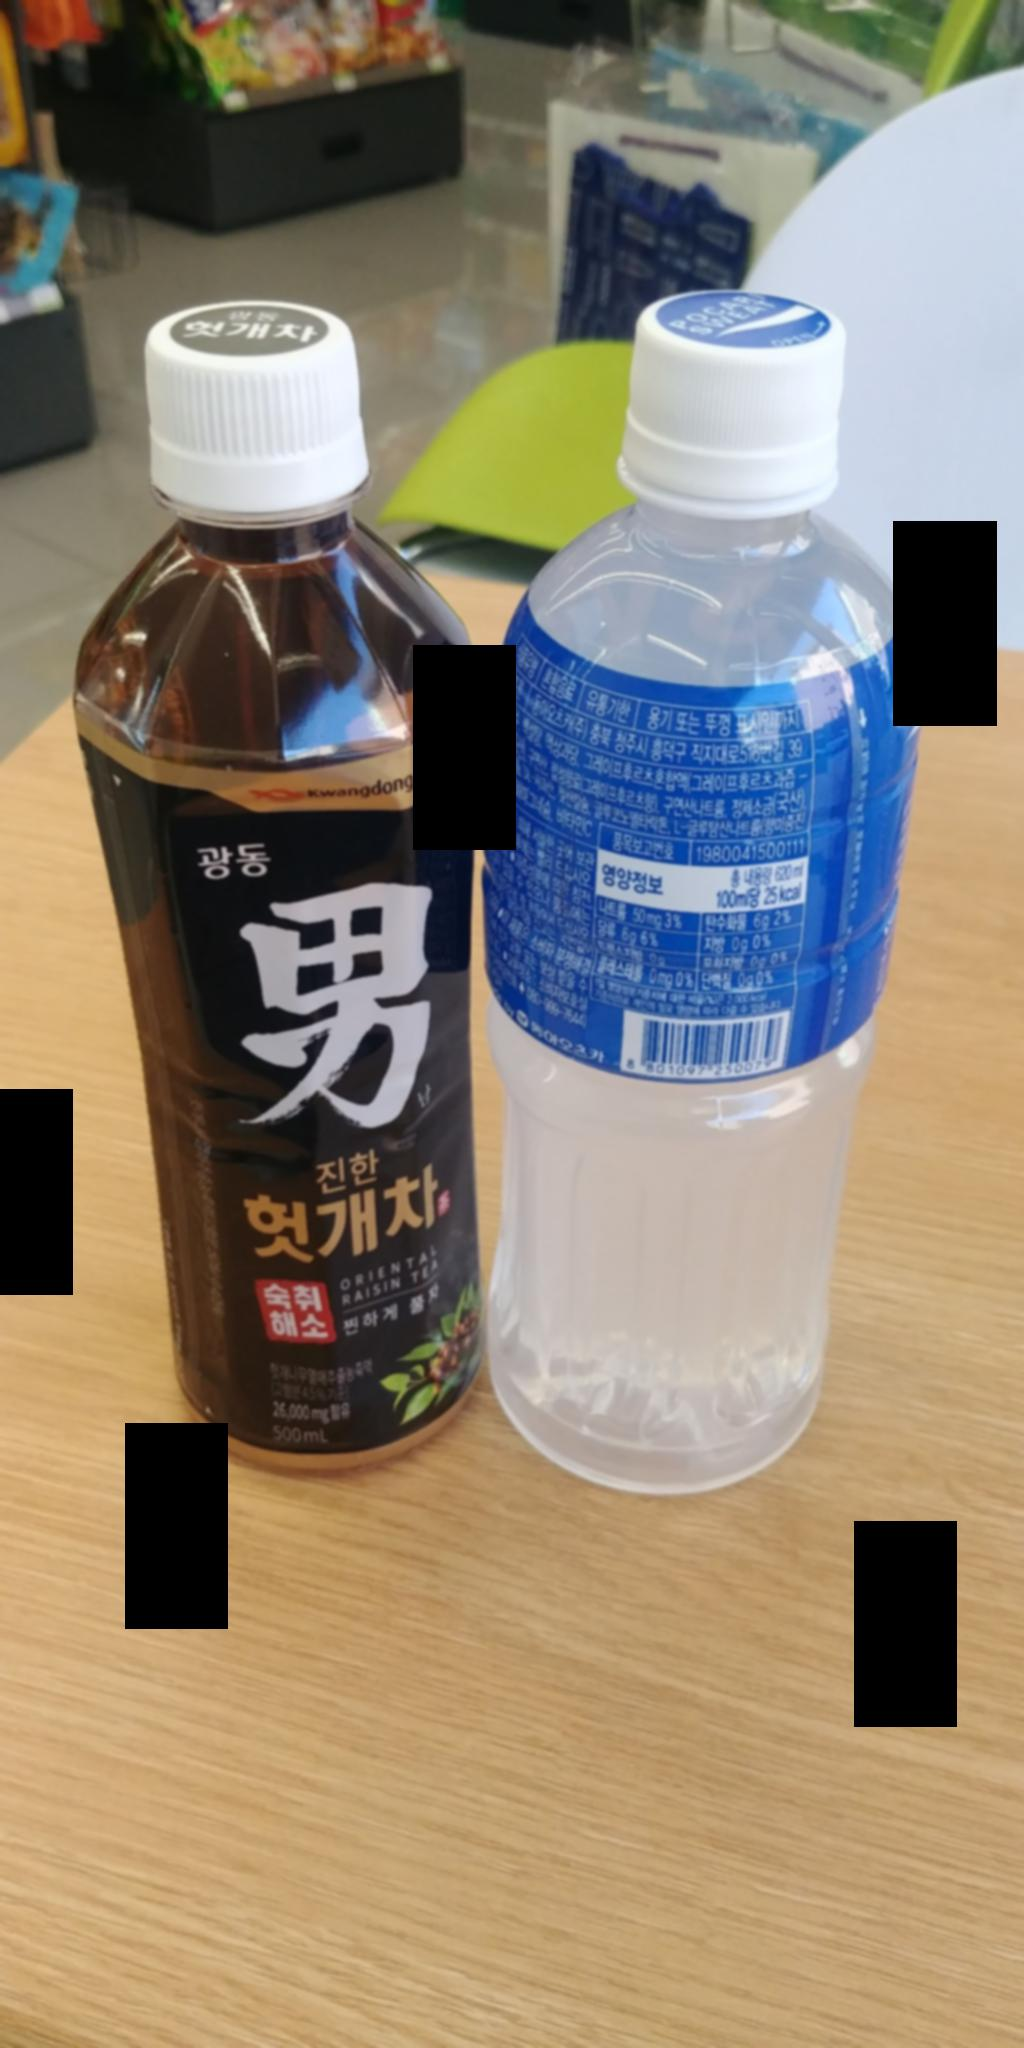heotgaecha: (60, 283, 504, 1492)
pocarisweat: (464, 268, 913, 1528)
